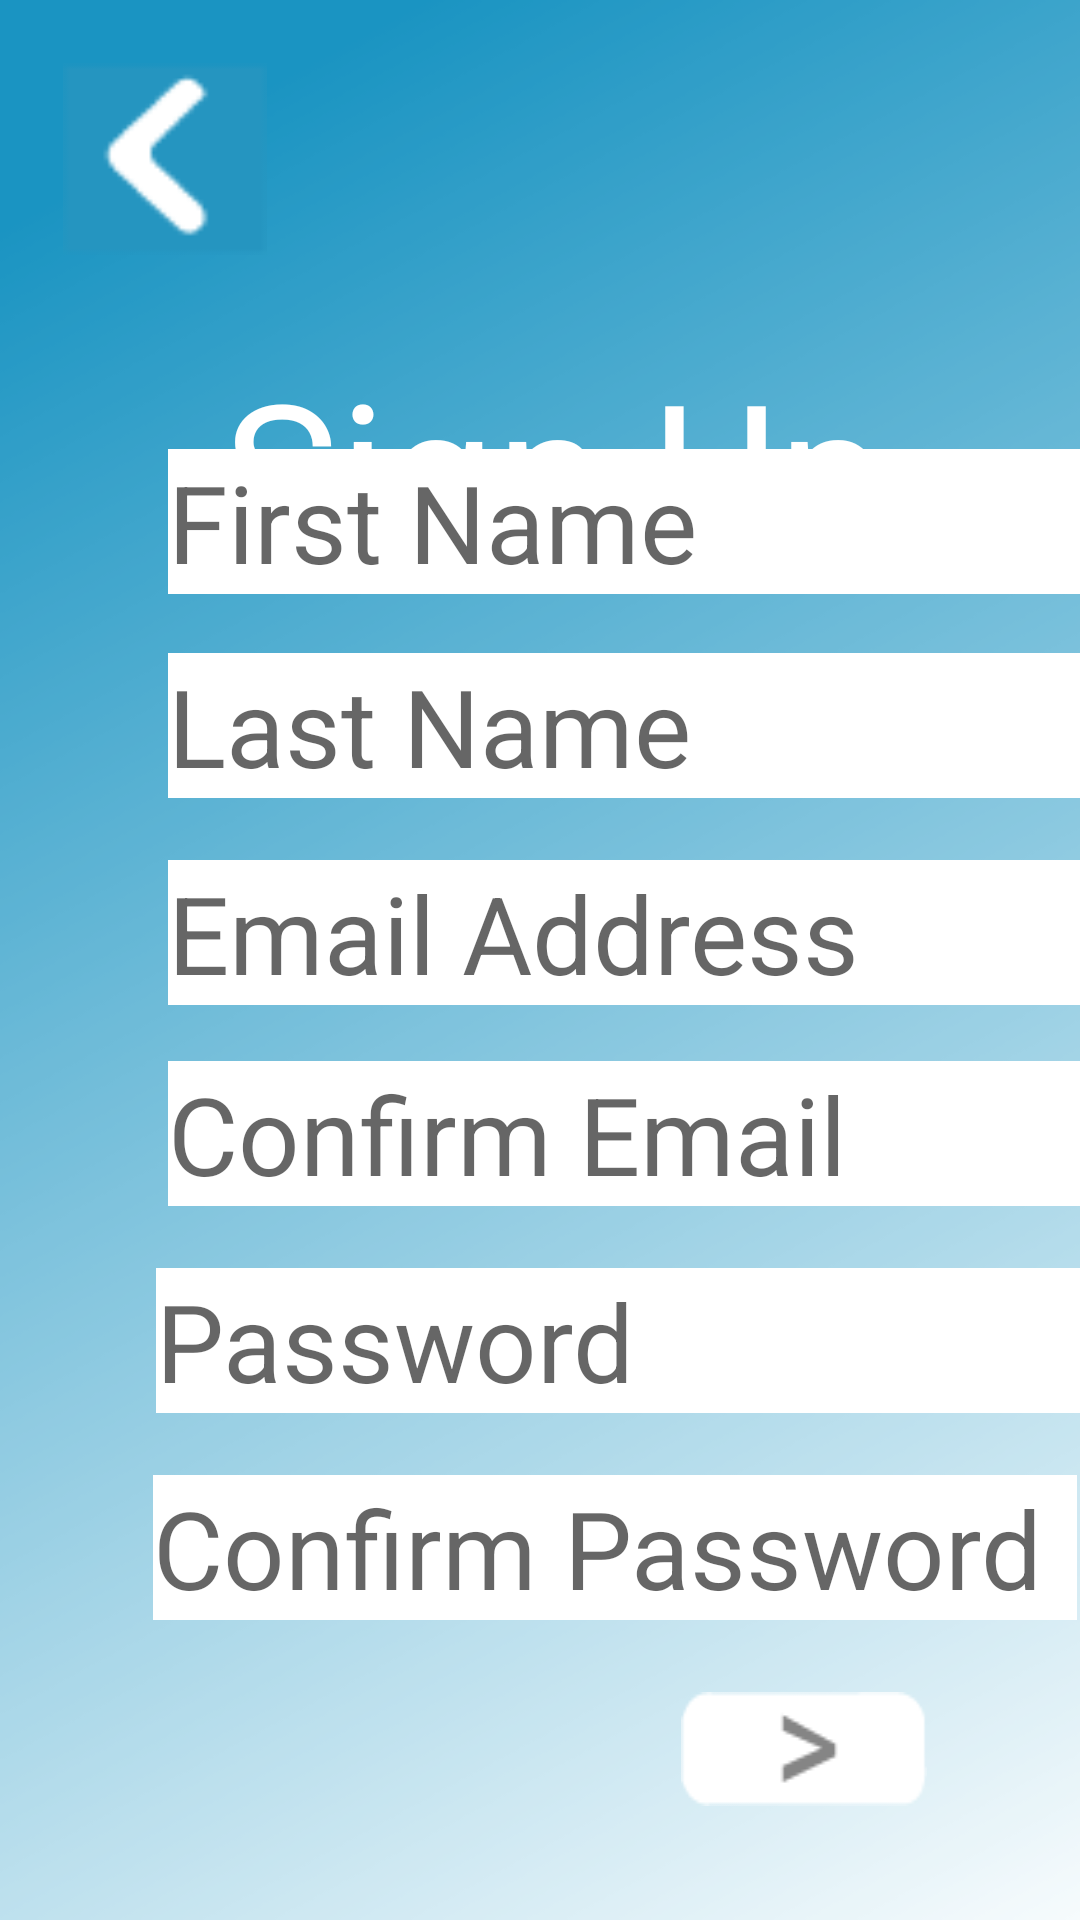

Locate icon controls on the screen. Image size 1080 x 1920, boxes as (x1, y1, x2, y2).
backarrow: (104, 76, 208, 236)
next: (683, 1692, 925, 1804)
